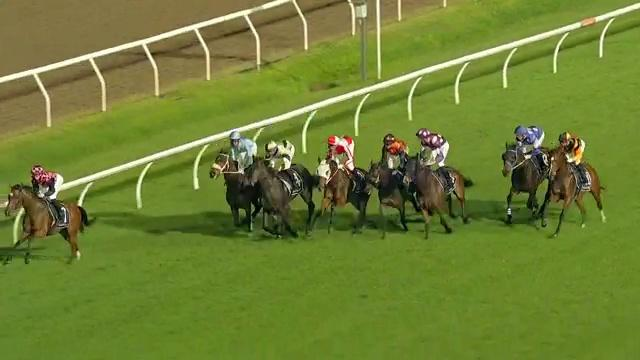racing-horse: (537, 115, 632, 244), (390, 109, 478, 243), (236, 128, 333, 248), (180, 115, 275, 237), (0, 153, 101, 267), (479, 106, 556, 239), (303, 121, 382, 237), (360, 122, 426, 240)
